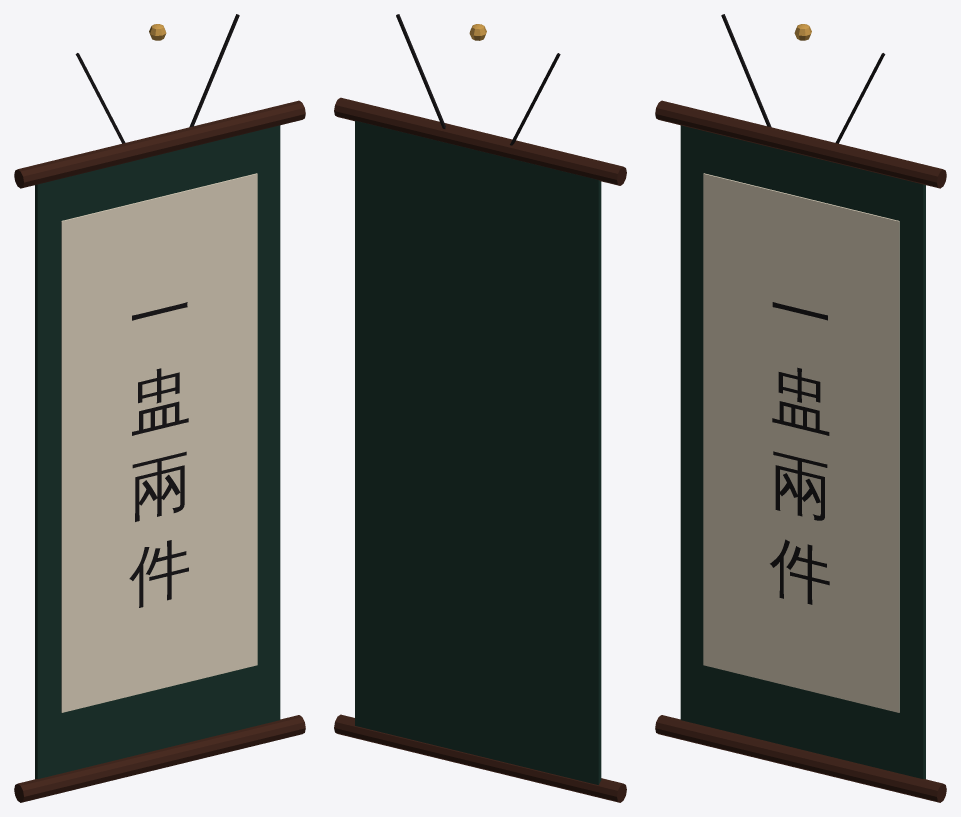
File: scroll_yumcha.glb
3 renders of one model, left to right at view 1: azimuth 30°, elevation 25°; view 2: azimuth 150°, elevation 25°; view 3: azimuth 330°, elevation 25°, orthographic.
Visible parts, largest first — view 1: scroll_yumcha; view 2: scroll_yumcha; view 3: scroll_yumcha.
Part boxes in pixels (x1,y1,x2,y2): scroll_yumcha: [14, 14, 305, 802]; scroll_yumcha: [334, 14, 626, 802]; scroll_yumcha: [655, 14, 946, 802].
Bounding box in the file's own units: 0.72 × 1.81 × 0.052.
